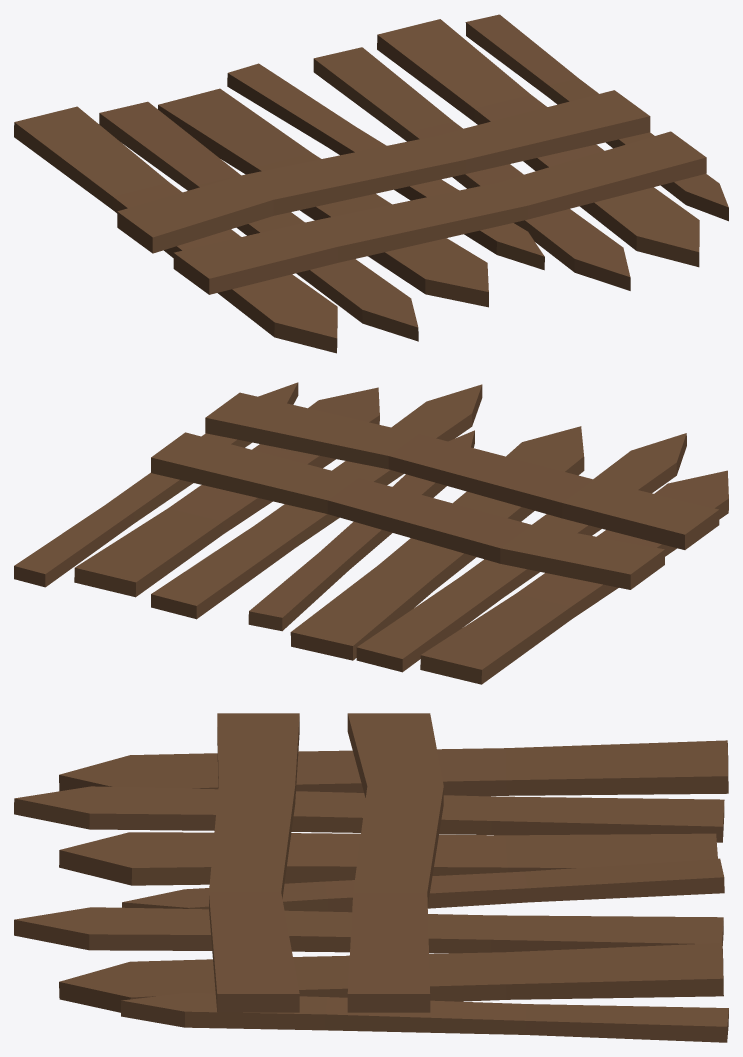
The model's file is Barrier_01_center_destroy.fbx.
3 views of the same model, one above another, from view 1: azimuth 30°, elevation 25°; view 2: azimuth 150°, elevation 25°; view 3: azimuth 270°, elevation 25° (orthographic). The views are drawn at different scales.
Visible parts, largest first — view 1: barriere_1.0 centre destroy; view 2: barriere_1.0 centre destroy; view 3: barriere_1.0 centre destroy.
Boxes of the visible parts, x1,y1,x2,y2 form: barriere_1.0 centre destroy: (14,14,728,353); barriere_1.0 centre destroy: (14,382,728,684); barriere_1.0 centre destroy: (14,713,728,1042).
Size of the model in its own units: 101 by 7.83 by 105.
